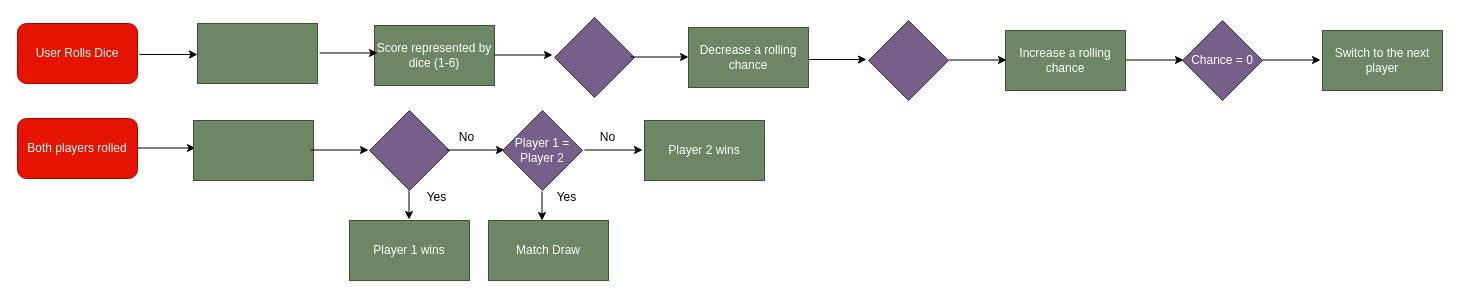
Some shapes in this 1460 by 298 pixel diagram are drawn without their labels. Here are the shapes that lost their labels. From the top down, the centre of each, then its label:
At [257,53]: "User can roll the dice 5 time".
At [594,57]: "Score = 1".
At [908,60]: "Score = 6".
At [253,150]: "Check who has higher total score".
At [409,150]: "Player 1 > Player 2".
